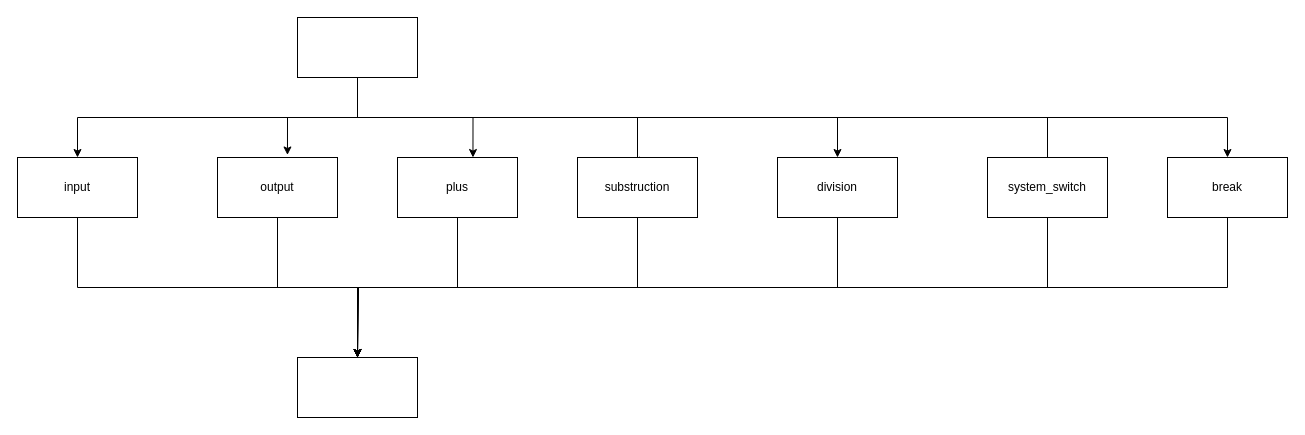
This 1305x435 diagram has some shape labels left out. Each missing label, with the box of its shape:
continue: (296, 356, 418, 418)
main: (296, 16, 418, 78)
